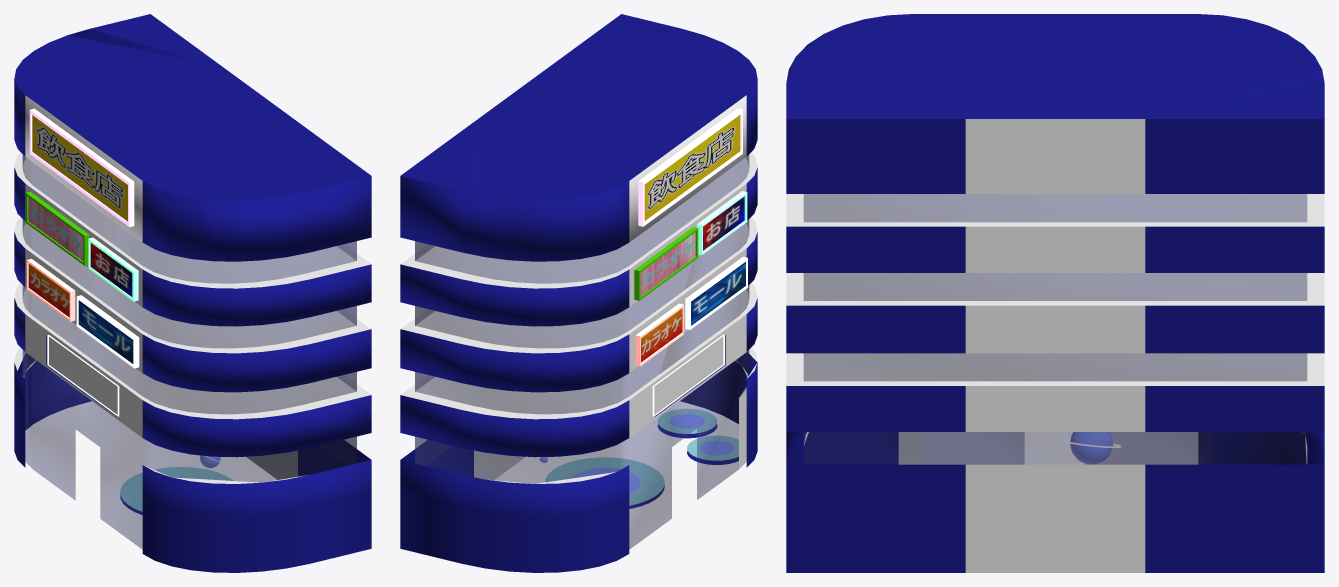
The model's file is blue.glb.
The picture shows the model from 3 angles, left to right: view 1: azimuth 30°, elevation 25°; view 2: azimuth 150°, elevation 25°; view 3: azimuth 270°, elevation 25°; orthographic projection. The views are drawn at different scales.
Visible parts, largest first — view 1: BlueBuilding; view 2: BlueBuilding; view 3: BlueBuilding.
Part boxes in pixels (<box>): BlueBuilding: <box>14,14,371,572</box>; BlueBuilding: <box>400,14,757,572</box>; BlueBuilding: <box>786,14,1324,572</box>.
Size of what is drawn, in the model's own units: 8.57 by 16.86 by 18.04.
Materials: 19 (7 with a texture image).
